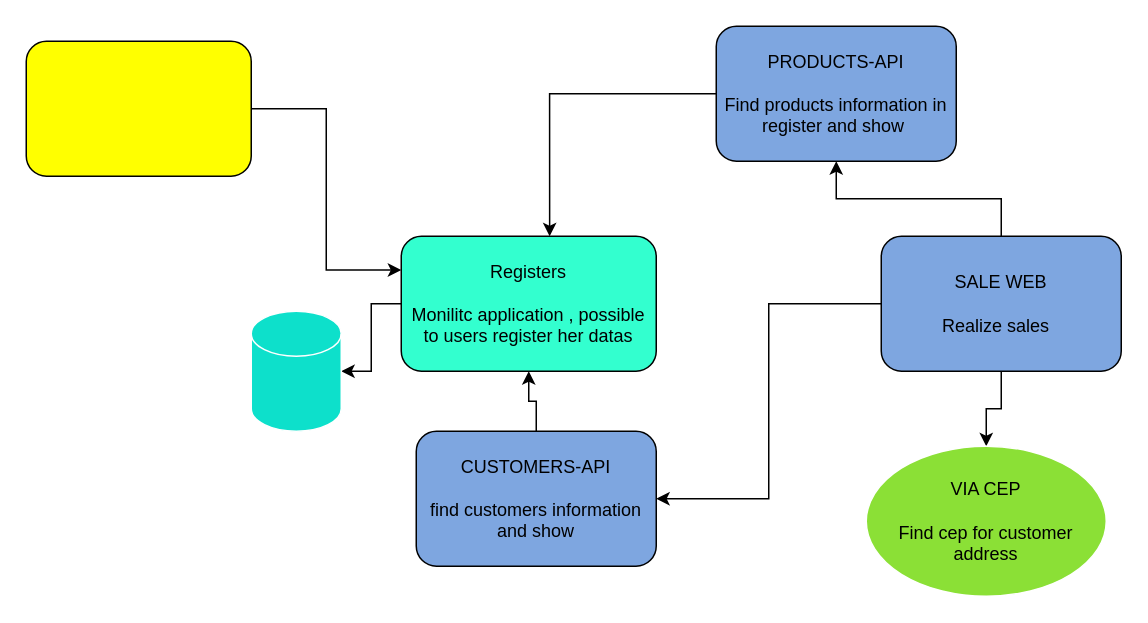
This 1148x623 diagram has some shape labels left out. The shapes that lost their labels are listed below. From the top down, each one's centre as x and y in pixels, then its label:
At pixel 138 108: "SALE USER Person use this system for register all data".
At pixel 295 370: "DB SQL".
